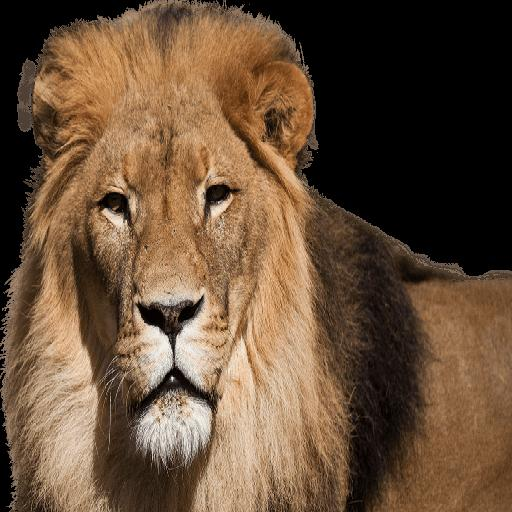Lion: (0, 0, 512, 510)
